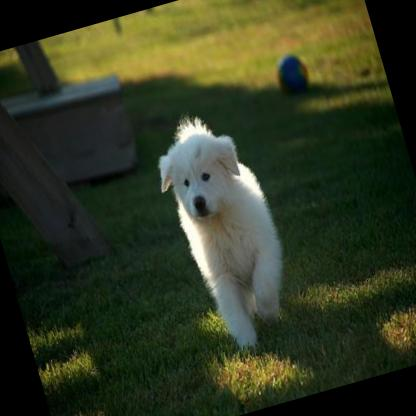Great_Pyrenees: (141, 102, 306, 361)
